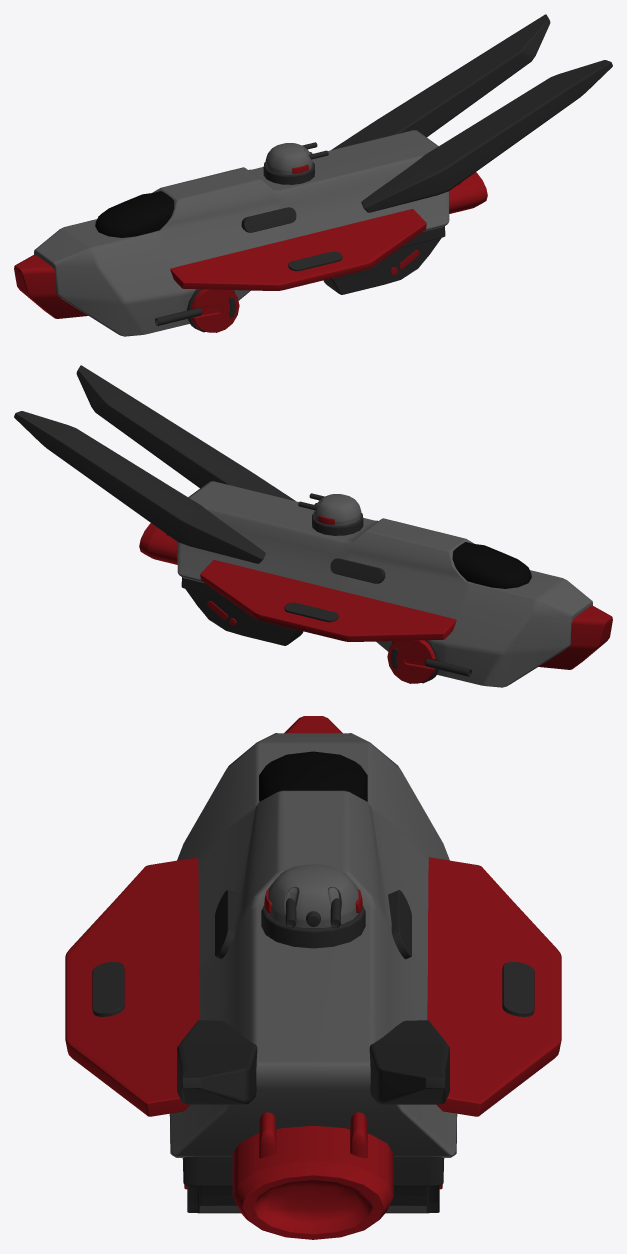
File: Corvette_02.fbx
The picture shows the model from 3 angles, top to bottom: view 1: azimuth 30°, elevation 25°; view 2: azimuth 150°, elevation 25°; view 3: azimuth 270°, elevation 25°; orthographic projection. The views are drawn at different scales.
Parts seen in each view (by area): view 1: Corvette_02; view 2: Corvette_02; view 3: Corvette_02.
Part boxes in pixels (<box>): Corvette_02: <box>14,14,612,336</box>; Corvette_02: <box>14,365,612,687</box>; Corvette_02: <box>65,716,561,1239</box>.
Bounding box in the file's own units: 3389 × 973 × 1294.
